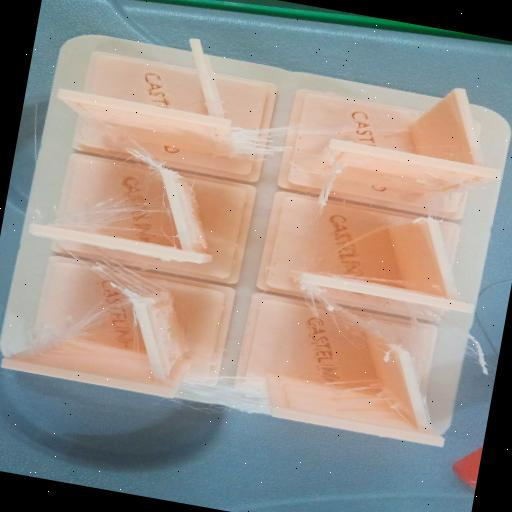stringing: (73, 190, 161, 242), (184, 368, 272, 418), (226, 122, 309, 170), (84, 254, 160, 301)
